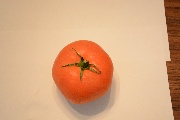tomato: (52, 39, 113, 106)
